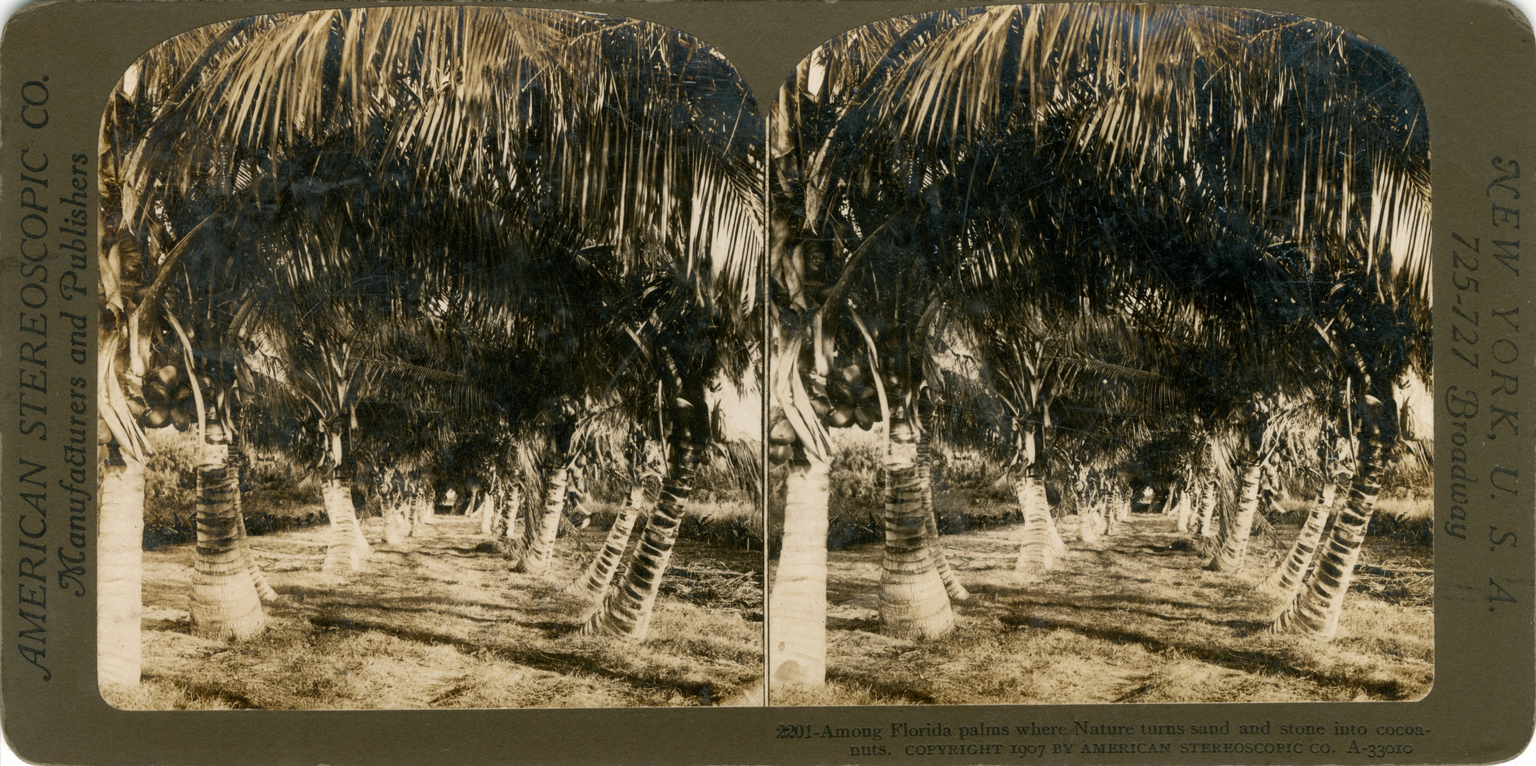half_image: (769, 1, 1435, 707), (98, 7, 763, 711)
